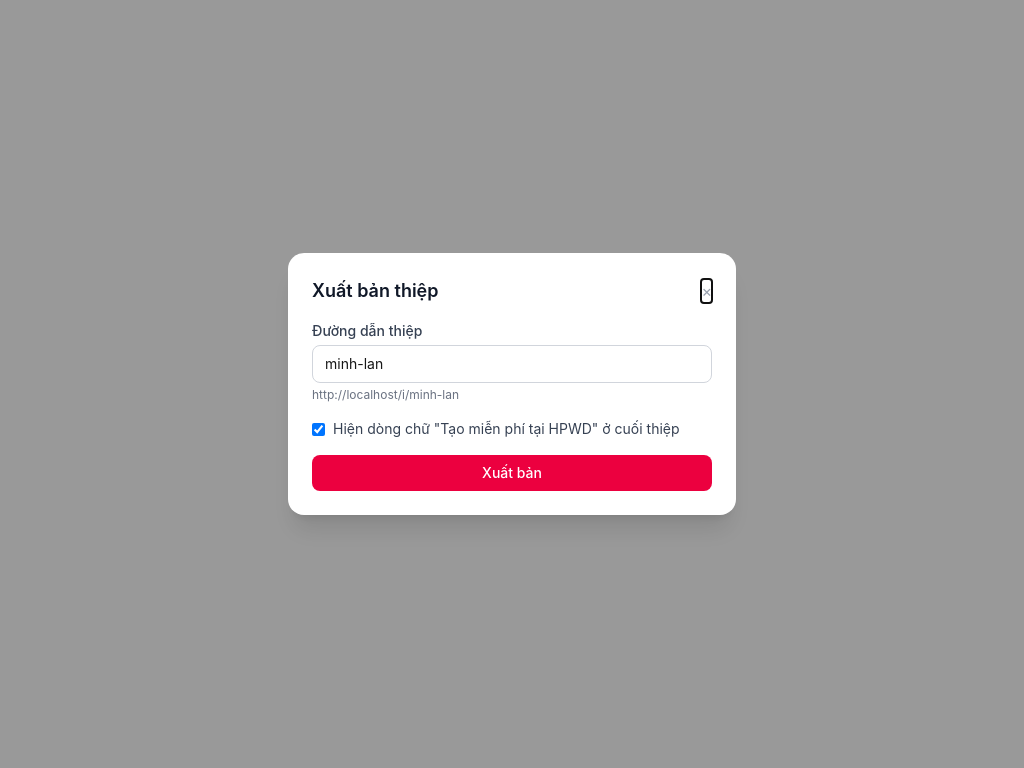
Scenario: PublishDialog › flushes the pending autosave before publishing (C2) › proceeds to publish once flush() resolves successfully (null)
Click the button "Xuất bản": (512, 473) [312,455,712,491]
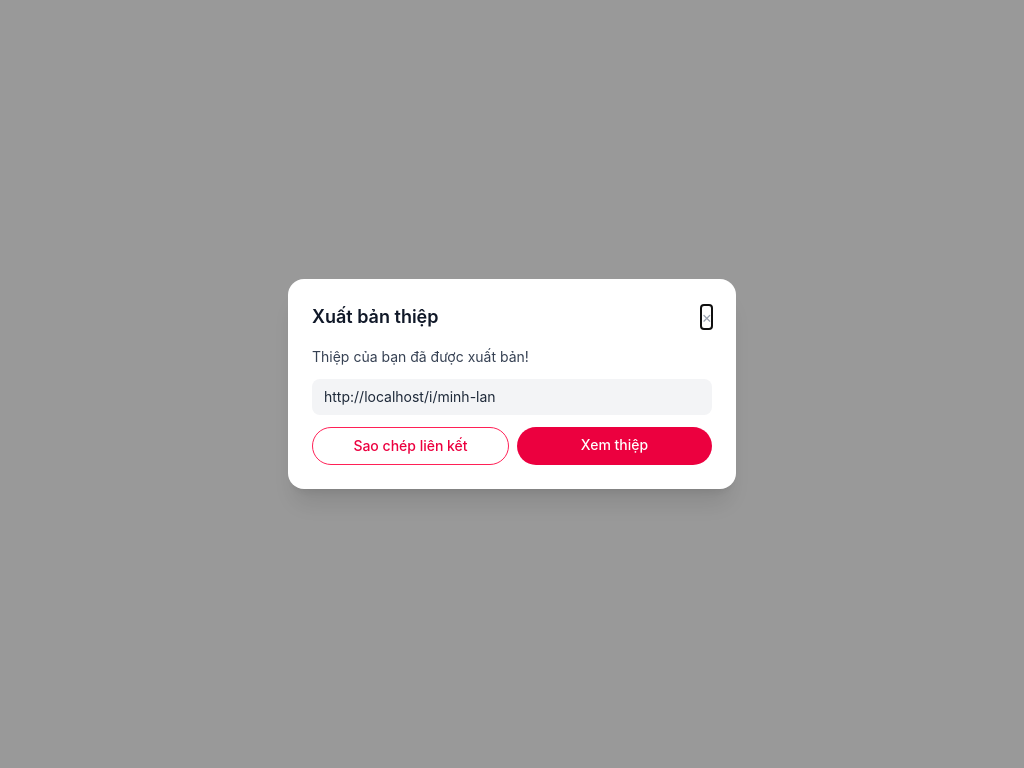
Now the text "Thiệp của bạn đã được xuất bản!" is shown, box [312,348,529,365]
